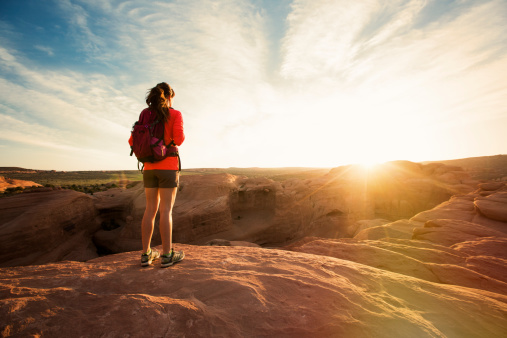em pe: (128, 68, 180, 267)
